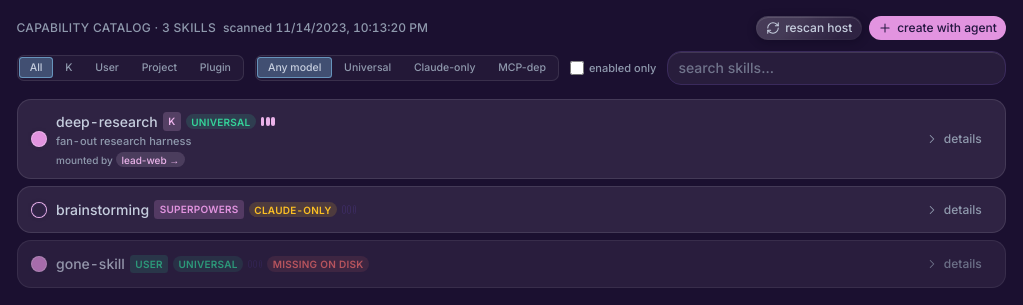
it: CatalogTab — filters › the source facet narrows by provenance
Expected: the element with test id "catalog-row-deep-research" is shown, [16,99,1006,179]
Click the button "Plugin" at (215, 68), box [189,57,242,78]
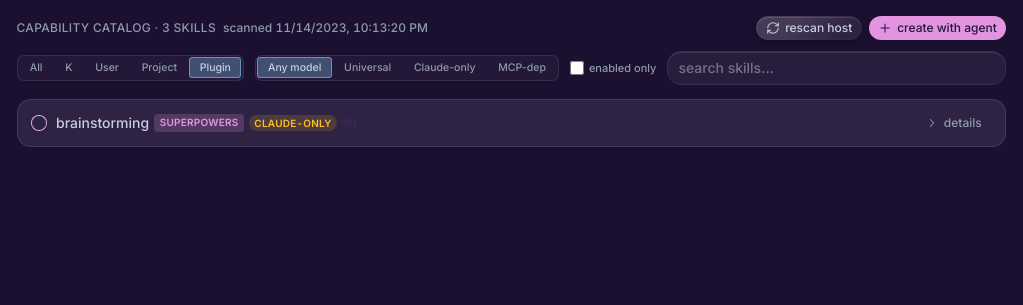
Expected: the element with test id "catalog-row-plugin:superpowers@obra:brainstorming" is shown, [16,99,1006,146]
Expected: the element with test id "catalog-row-deep-research" is gone
